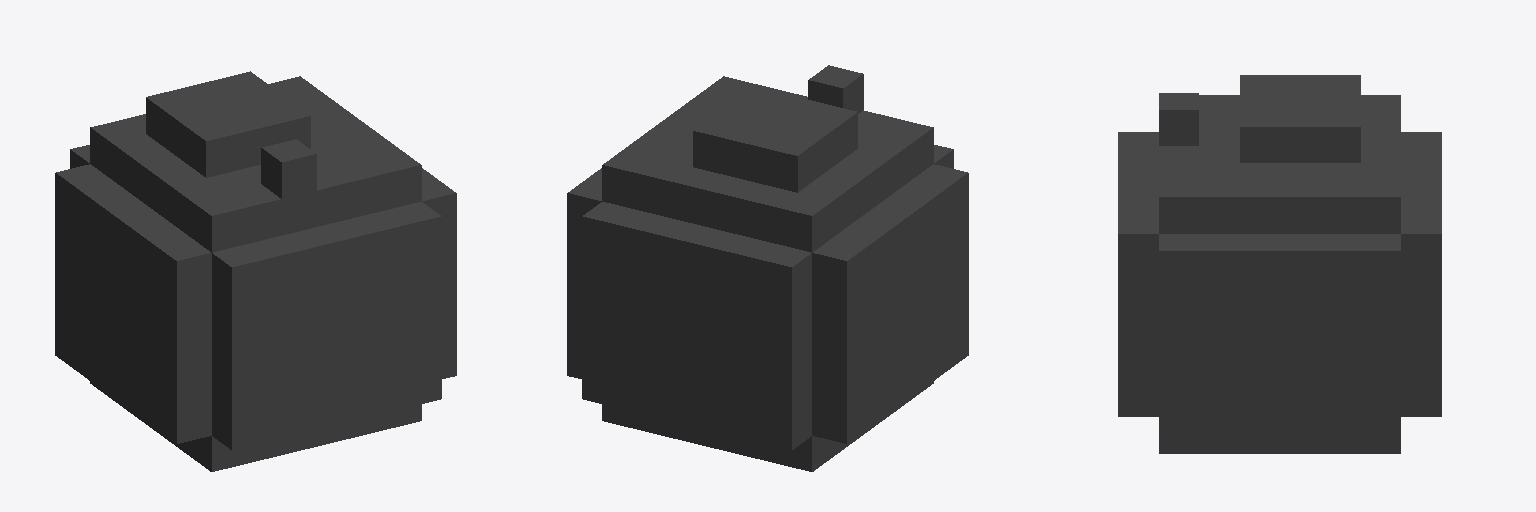
3 renders of one model, left to right at view 1: azimuth 30°, elevation 25°; view 2: azimuth 150°, elevation 25°; view 3: azimuth 270°, elevation 25°, orthographic.
Visible parts, largest first — view 1: object 1; view 2: object 1; view 3: object 1.
Part boxes in pixels (x1,y1,x2,y2): object 1: (55, 71, 456, 471); object 1: (567, 65, 968, 471); object 1: (1118, 75, 1441, 453).
Size of the model in its own units: 0.8 by 0.8 by 0.8.
1 materials, 1 textured.